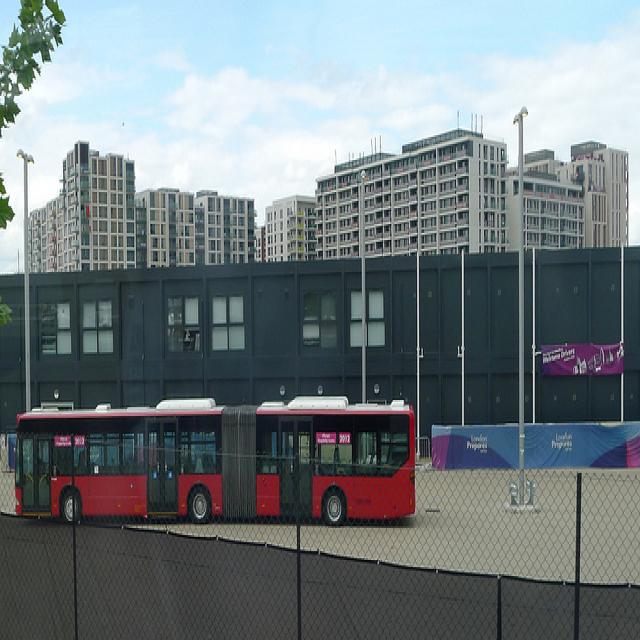AB: (9, 389, 419, 532)
